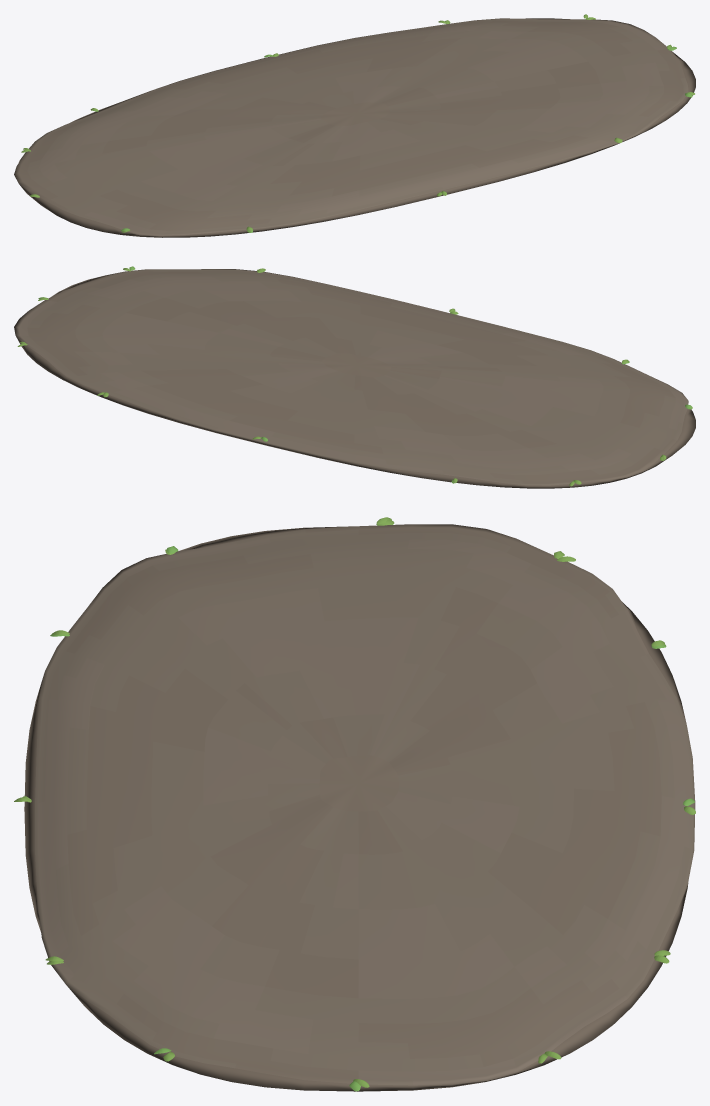
Rendered from strawberry_bed.glb.
3 views of the same model, one above another, from view 1: azimuth 30°, elevation 25°; view 2: azimuth 150°, elevation 25°; view 3: azimuth 270°, elevation 25° (orthographic). The views are drawn at different scales.
Visible parts, largest first — view 1: StrawberryBed | continuous loam, StrawberryBed | sparse edge fringe; view 2: StrawberryBed | continuous loam, StrawberryBed | sparse edge fringe; view 3: StrawberryBed | continuous loam, StrawberryBed | sparse edge fringe.
Part boxes in pixels (x1,y1,x2,y2): StrawberryBed | continuous loam: [14, 18, 695, 237]; StrawberryBed | sparse edge fringe: [21, 14, 694, 232]; StrawberryBed | continuous loam: [14, 269, 695, 488]; StrawberryBed | sparse edge fringe: [17, 266, 692, 486]; StrawberryBed | continuous loam: [24, 524, 695, 1091]; StrawberryBed | sparse edge fringe: [14, 517, 695, 1091].
Bounding box in the file's own units: 9 × 0.1905 × 4.54.
